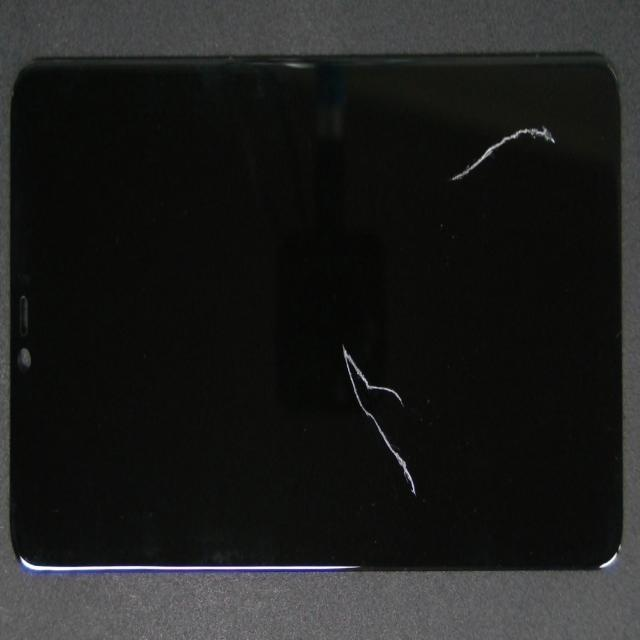scratch: (266, 333, 616, 640), (283, 86, 640, 218)
